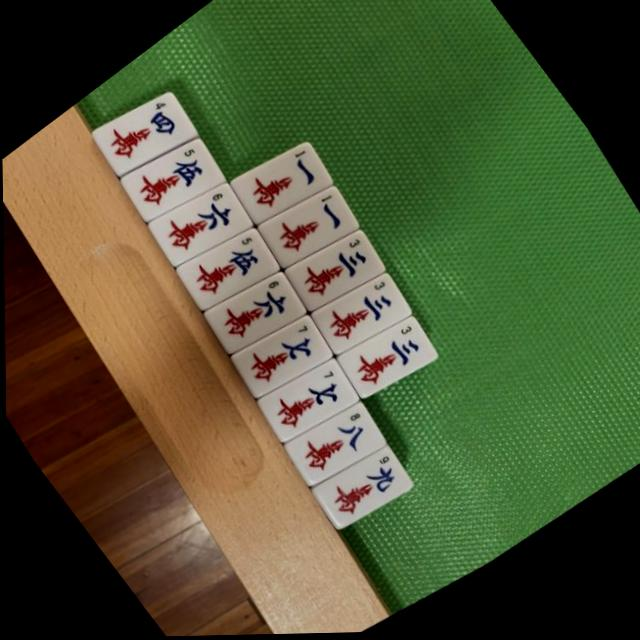sc1: (253, 176, 366, 284), (227, 133, 339, 240)
sc3: (333, 306, 444, 413), (307, 263, 418, 369), (281, 221, 391, 325)
sc4: (90, 84, 202, 190)
sc5: (173, 219, 286, 327), (117, 130, 229, 236)
sc6: (145, 173, 260, 283), (200, 262, 314, 370)
sc7: (254, 351, 366, 458), (228, 306, 340, 412)
sc8: (281, 395, 392, 502)
sc9: (307, 438, 420, 546)
